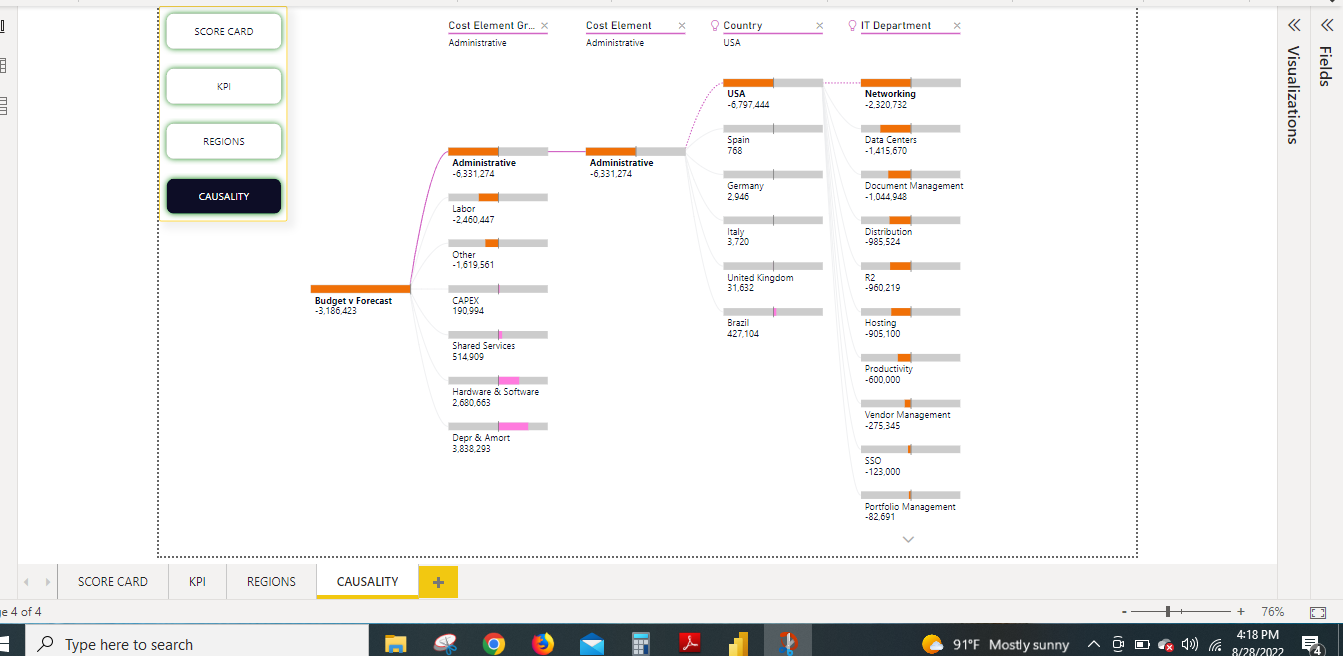

This screenshot's page, from the dashboard's own definition file:
{"tool":"powerbi","page":{"name":"CAUSALITY","canvas":[1280,720],"ordinal":3},"visuals":[{"type":"decompositionTreeVisual","fields":{"Analyze":["Measure.Budget v Forecast"],"ExplainBy":["CostElements.Cost Element Group","CostElements.Cost Element","Regions.Country","Departments.IT Department"]},"box":[169.2,0,1110.8,719.5],"z":0},{"type":"pageNavigator","box":[0,0,168.5,282.2],"z":1001}]}

Visuals, with their boxes on the page's 1280x720 design canvas (x1, y1, x2, y2). These are canvas units, not pixel positions in the 1343x656 screenshot, which may show the page scaled, cropped or inside an application window:
decompositionTreeVisual - Measure.Budget v Forecast x CostElements.Cost Element Group: left=169, top=0, right=1280, bottom=720
pageNavigator: left=0, top=0, right=168, bottom=282
